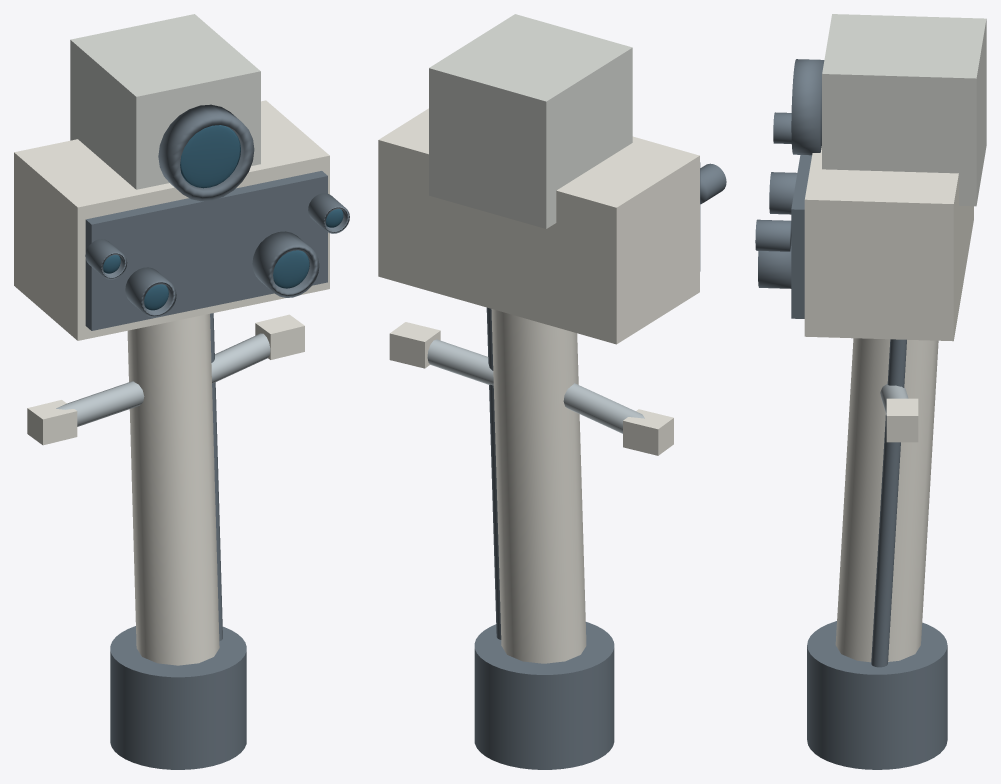
The model's file is curiosity_mast.glb.
3 renders of one model, left to right at view 1: azimuth 30°, elevation 25°; view 2: azimuth 150°, elevation 25°; view 3: azimuth 270°, elevation 25°, orthographic. The views are drawn at different scales.
Parts seen in each view (by area): view 1: curiosity_mast.deployment.mesh_Warm_white_enamel, curiosity_mast.deployment.azimuth.head.mesh_Warm_white_ename, curiosity_mast.deployment.azimuth.head.chemcam.mesh_Pale_the, curiosity_mast.deployment.azimuth.head.mesh_Machined_steel, curiosity_mast.deployment.mesh_Machined_steel, curiosity_mast.deployment.azimuth.head.chemcam.telescope.mes, curiosity_mast.deployment.azimuth.head.chemcam.telescope.len, curiosity_mast.deployment.azimuth.head.mastcam_100.mesh_Mach, curiosity_mast.deployment.rems_booms.boom_l.mesh_Satin_alumi, curiosity_mast.deployment.rems_booms.boom_l.mesh_Warm_white_, curiosity_mast.deployment.rems_booms.boom_r.mesh_Satin_alumi, curiosity_mast.deployment.rems_booms.boom_r.mesh_Warm_white_ (+4 smaller); view 2: curiosity_mast.deployment.azimuth.head.mesh_Warm_white_ename, curiosity_mast.deployment.azimuth.head.chemcam.mesh_Pale_the, curiosity_mast.deployment.mesh_Warm_white_enamel, curiosity_mast.deployment.mesh_Machined_steel, curiosity_mast.deployment.rems_booms.boom_l.mesh_Warm_white_, curiosity_mast.deployment.rems_booms.boom_l.mesh_Satin_alumi, curiosity_mast.deployment.rems_booms.boom_r.mesh_Satin_alumi, curiosity_mast.deployment.rems_booms.boom_r.mesh_Warm_white_, curiosity_mast.deployment.azimuth.head.navcam_l.mesh_Machine; view 3: curiosity_mast.deployment.azimuth.head.mesh_Warm_white_ename, curiosity_mast.deployment.azimuth.head.chemcam.mesh_Pale_the, curiosity_mast.deployment.mesh_Warm_white_enamel, curiosity_mast.deployment.mesh_Machined_steel, curiosity_mast.deployment.azimuth.head.chemcam.telescope.mes, curiosity_mast.deployment.azimuth.head.mesh_Machined_steel, curiosity_mast.deployment.rems_booms.boom_r.mesh_Warm_white_, curiosity_mast.deployment.azimuth.head.mastcam_100.mesh_Mach, curiosity_mast.deployment.azimuth.head.navcam_r.mesh_Machine, curiosity_mast.deployment.azimuth.head.mastcam_34.mesh_Machi, curiosity_mast.deployment.azimuth.head.navcam_l.mesh_Machine.
Boxes of the visible parts, bbox=[...] form: curiosity_mast.deployment.mesh_Warm_white_enamel: bbox=[127, 314, 219, 665]; curiosity_mast.deployment.azimuth.head.mesh_Warm_white_ename: bbox=[14, 100, 329, 340]; curiosity_mast.deployment.azimuth.head.chemcam.mesh_Pale_the: bbox=[70, 14, 260, 189]; curiosity_mast.deployment.azimuth.head.mesh_Machined_steel: bbox=[85, 171, 327, 330]; curiosity_mast.deployment.mesh_Machined_steel: bbox=[110, 313, 246, 769]; curiosity_mast.deployment.azimuth.head.chemcam.telescope.mes: bbox=[158, 104, 254, 201]; curiosity_mast.deployment.azimuth.head.chemcam.telescope.len: bbox=[180, 125, 240, 188]; curiosity_mast.deployment.azimuth.head.mastcam_100.mesh_Mach: bbox=[252, 231, 319, 297]; curiosity_mast.deployment.rems_booms.boom_l.mesh_Satin_alumi: bbox=[56, 381, 144, 426]; curiosity_mast.deployment.rems_booms.boom_l.mesh_Warm_white_: bbox=[27, 400, 77, 445]; curiosity_mast.deployment.rems_booms.boom_r.mesh_Satin_alumi: bbox=[211, 333, 270, 383]; curiosity_mast.deployment.rems_booms.boom_r.mesh_Warm_white_: bbox=[255, 314, 304, 359]; curiosity_mast.deployment.azimuth.head.mesh_Warm_white_ename: bbox=[378, 108, 699, 344]; curiosity_mast.deployment.azimuth.head.chemcam.mesh_Pale_the: bbox=[429, 14, 632, 228]; curiosity_mast.deployment.mesh_Warm_white_enamel: bbox=[491, 309, 586, 663]; curiosity_mast.deployment.mesh_Machined_steel: bbox=[474, 307, 614, 769]; curiosity_mast.deployment.rems_booms.boom_l.mesh_Warm_white_: bbox=[623, 409, 673, 455]; curiosity_mast.deployment.rems_booms.boom_l.mesh_Satin_alumi: bbox=[563, 383, 644, 433]; curiosity_mast.deployment.rems_booms.boom_r.mesh_Satin_alumi: bbox=[427, 339, 493, 385]; curiosity_mast.deployment.rems_booms.boom_r.mesh_Warm_white_: bbox=[389, 322, 440, 368]; curiosity_mast.deployment.azimuth.head.navcam_l.mesh_Machine: bbox=[700, 163, 726, 204]; curiosity_mast.deployment.azimuth.head.mesh_Warm_white_ename: bbox=[804, 146, 973, 341]; curiosity_mast.deployment.azimuth.head.chemcam.mesh_Pale_the: bbox=[822, 14, 986, 206]; curiosity_mast.deployment.mesh_Warm_white_enamel: bbox=[835, 338, 938, 662]; curiosity_mast.deployment.mesh_Machined_steel: bbox=[807, 339, 947, 769]; curiosity_mast.deployment.azimuth.head.chemcam.telescope.mes: bbox=[791, 59, 824, 155]; curiosity_mast.deployment.azimuth.head.mesh_Machined_steel: bbox=[791, 155, 811, 318]; curiosity_mast.deployment.rems_booms.boom_r.mesh_Warm_white_: bbox=[886, 398, 918, 442]; curiosity_mast.deployment.azimuth.head.mastcam_100.mesh_Mach: bbox=[758, 246, 791, 288]; curiosity_mast.deployment.azimuth.head.navcam_r.mesh_Machine: bbox=[755, 219, 791, 251]; curiosity_mast.deployment.azimuth.head.mastcam_34.mesh_Machi: bbox=[769, 172, 797, 214]; curiosity_mast.deployment.azimuth.head.navcam_l.mesh_Machine: bbox=[773, 112, 791, 143].
Size of the model in its own units: 0.518 by 1.28 by 0.3851.
